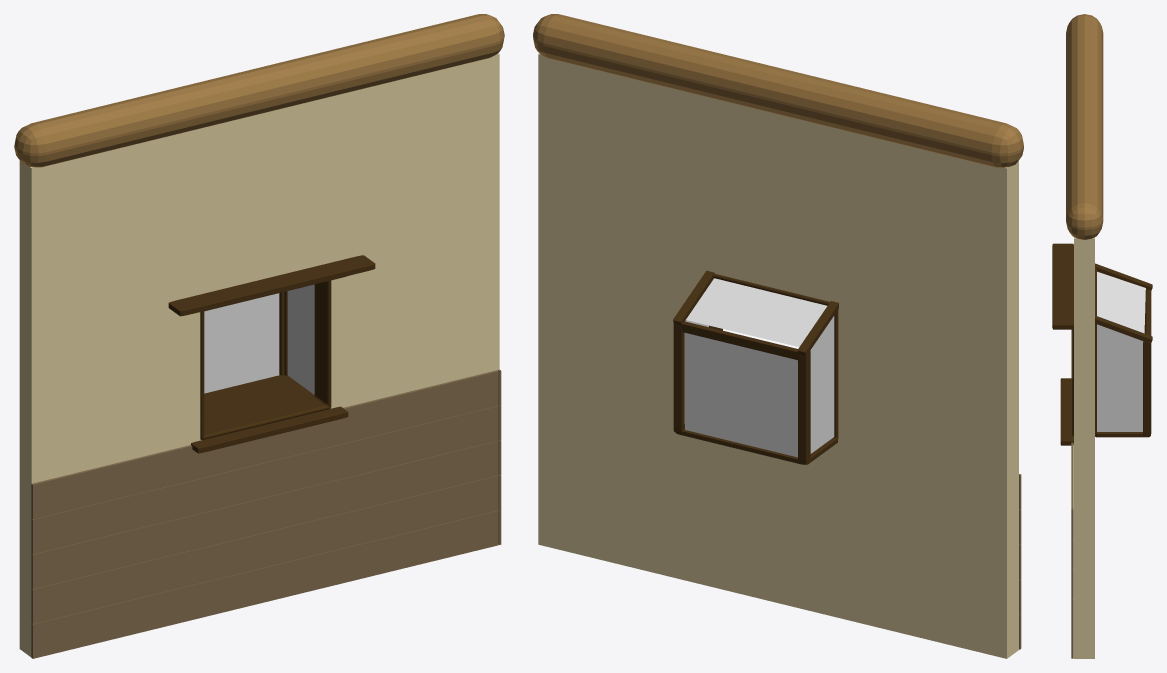
File: SingleWallwithWindow01.fbx
3 renders of one model, left to right at view 1: azimuth 30°, elevation 25°; view 2: azimuth 150°, elevation 25°; view 3: azimuth 270°, elevation 25°, orthographic. The views are drawn at different scales.
Visible parts, largest first — view 1: SingleWall-Window01; view 2: SingleWall-Window01; view 3: SingleWall-Window01.
Part boxes in pixels (bbox=[...]): SingleWall-Window01: bbox=[14, 14, 504, 658]; SingleWall-Window01: bbox=[533, 14, 1023, 658]; SingleWall-Window01: bbox=[1052, 14, 1152, 658].
Size of the model in its own units: 207 by 215 by 43.31.
